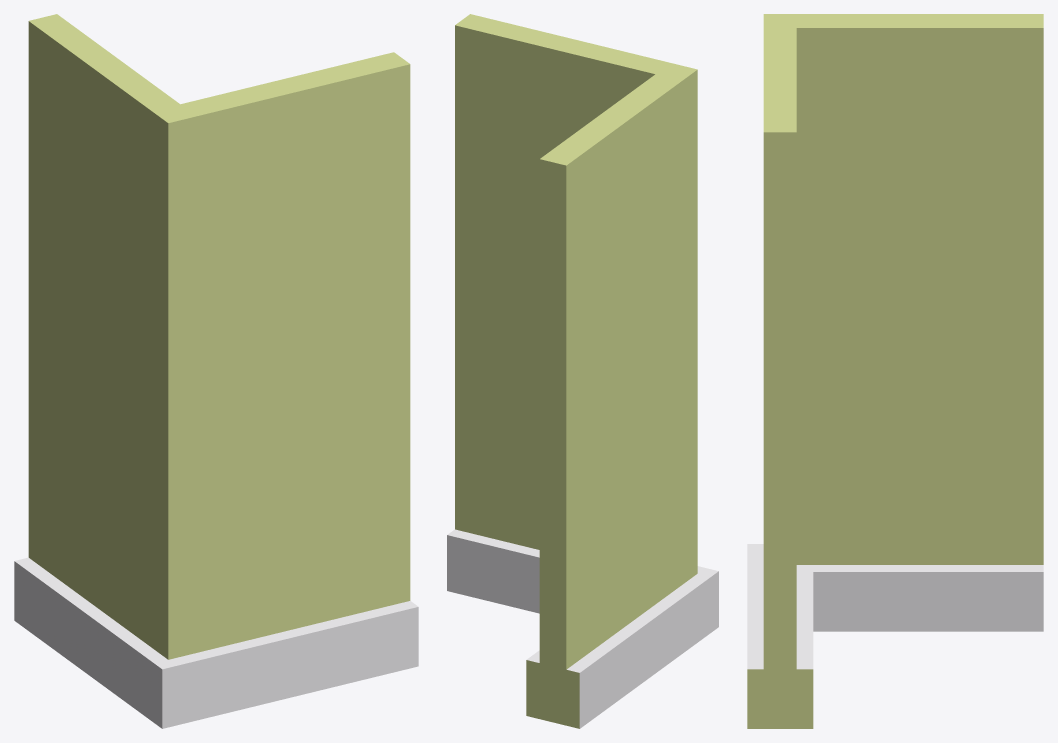
File: WallInsideCorner.glb
The picture shows the model from 3 angles, left to right: view 1: azimuth 30°, elevation 25°; view 2: azimuth 150°, elevation 25°; view 3: azimuth 270°, elevation 25°; orthographic projection. The views are drawn at different scales.
Parts seen in each view (by area): view 1: WallInsideCorner; view 2: WallInsideCorner; view 3: WallInsideCorner.
Boxes of the visible parts, left/top/right/bottom form: WallInsideCorner: left=14, top=14, right=418, bottom=728; WallInsideCorner: left=447, top=14, right=718, bottom=728; WallInsideCorner: left=747, top=14, right=1043, bottom=728.
Bounding box in the file's own units: 18 × 40 × 18.
